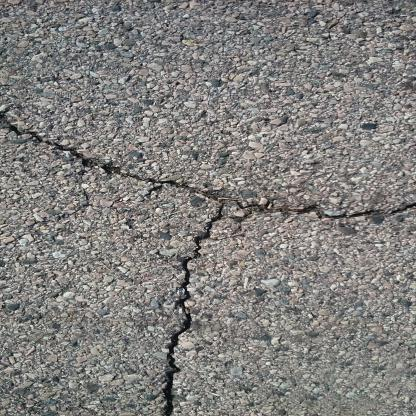Cracks: (0, 108, 416, 226), (152, 189, 235, 416)
